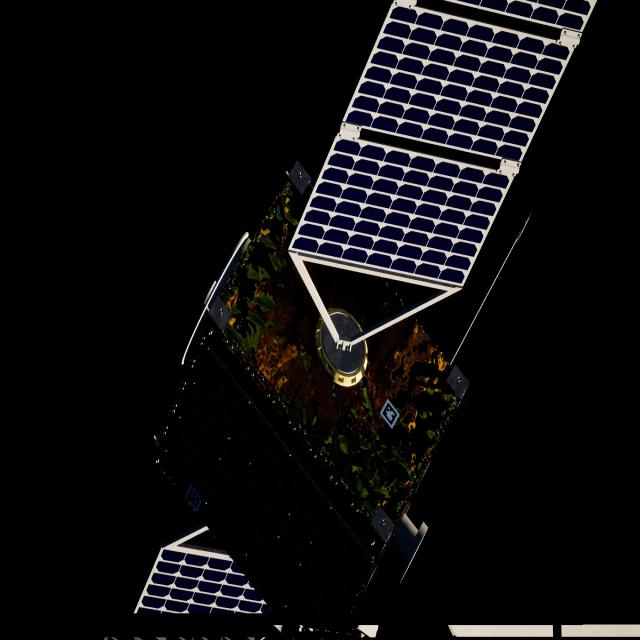medium_debris: (135, 0, 599, 640)
